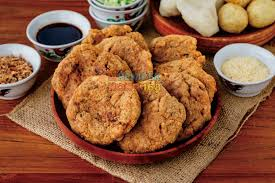Pempek kulit: (65, 72, 142, 145), (133, 81, 188, 156), (160, 69, 215, 134), (47, 46, 132, 88), (102, 30, 155, 75), (147, 31, 203, 64)
